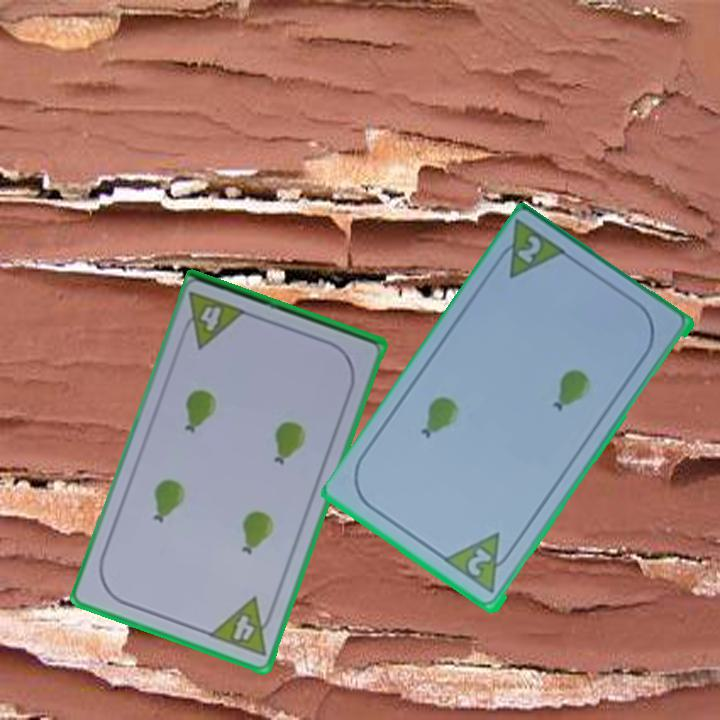2p: (489, 217, 572, 283), (463, 545, 495, 580)
4p: (205, 594, 280, 659), (176, 289, 250, 352)
